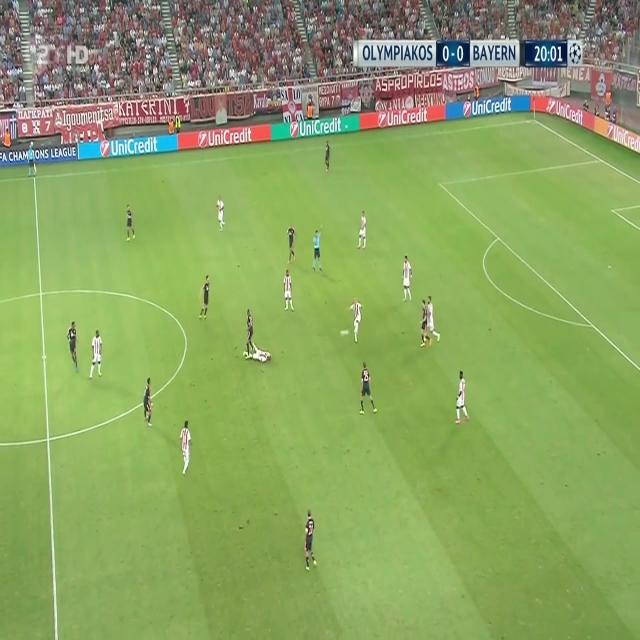Ball: (339, 324, 350, 340)
Player: (358, 360, 376, 418), (304, 506, 319, 574), (87, 327, 105, 382), (454, 370, 471, 428), (65, 319, 81, 374), (179, 418, 193, 478), (242, 341, 273, 368), (349, 294, 365, 344), (198, 269, 213, 322), (427, 292, 441, 346), (141, 375, 155, 428), (418, 298, 431, 352), (281, 268, 296, 314), (123, 200, 137, 245), (402, 253, 414, 305), (243, 308, 254, 360), (356, 207, 368, 254), (286, 223, 297, 267), (215, 194, 227, 233), (324, 136, 331, 174)
Referee: (311, 226, 325, 276), (24, 146, 37, 180)
